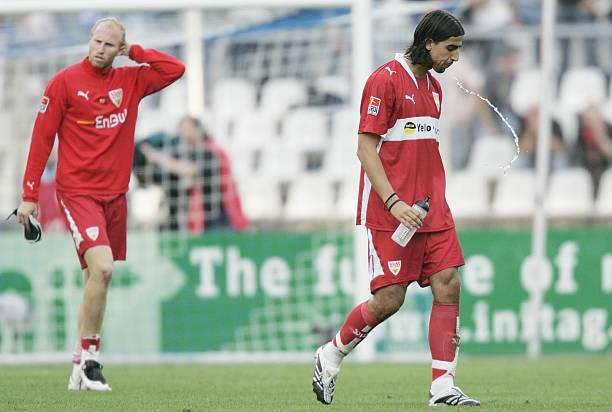Spitting: (407, 2, 500, 97)
